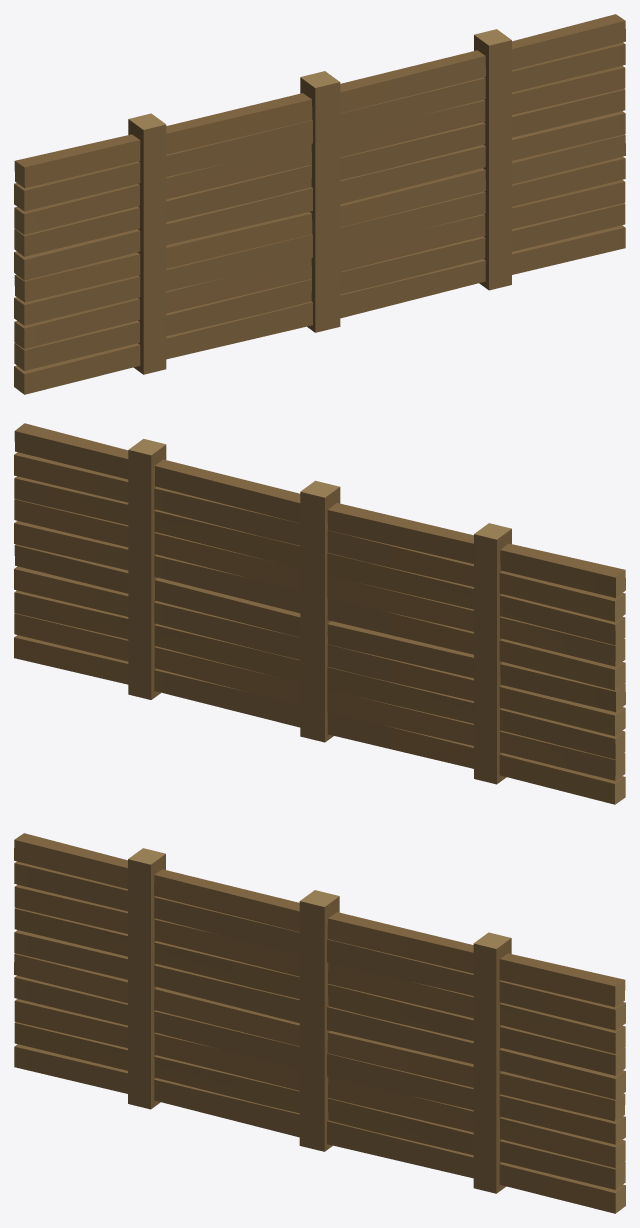
The model's file is quaternius-real-time-strategy-wall-first-age.glb.
3 renders of one model, top to bottom at view 1: azimuth 30°, elevation 25°; view 2: azimuth 150°, elevation 25°; view 3: azimuth 330°, elevation 25°, orthographic.
Parts seen in each view (by area): view 1: Wall_FirstAge; view 2: Wall_FirstAge; view 3: Wall_FirstAge.
Boxes of the visible parts, x1=… form: Wall_FirstAge: x1=14, y1=14, x2=625, y2=394; Wall_FirstAge: x1=14, y1=423, x2=625, y2=804; Wall_FirstAge: x1=14, y1=833, x2=625, y2=1213.
Size of the model in its own units: 1.35 by 0.526 by 0.0589.
